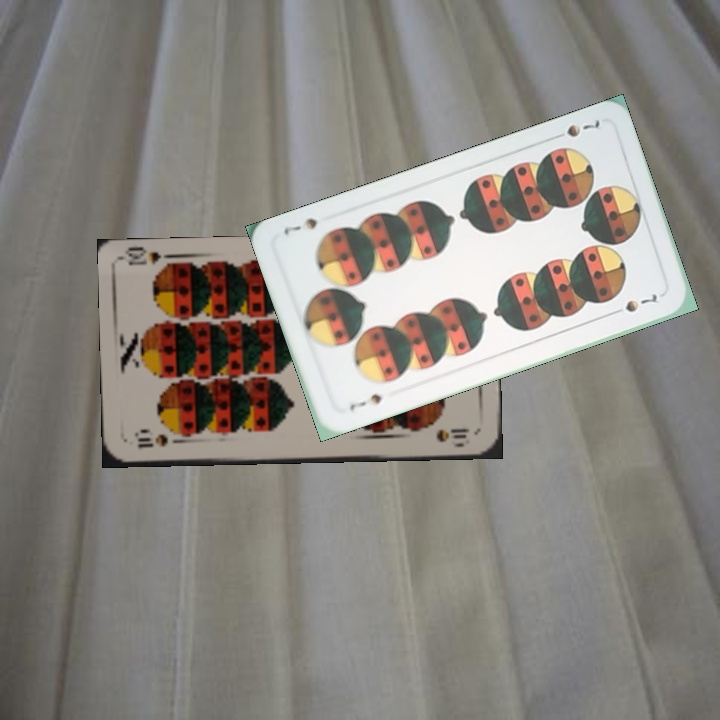S10: (130, 431, 186, 450)
S7: (548, 116, 603, 143), (345, 389, 384, 415)
